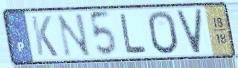5: (87, 9, 119, 59)
K: (29, 14, 60, 58)
L: (118, 12, 149, 56)
N: (55, 12, 93, 59)
O: (147, 9, 181, 56)
V: (175, 7, 204, 55)
